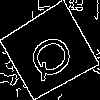Q: (24, 26, 85, 84)
